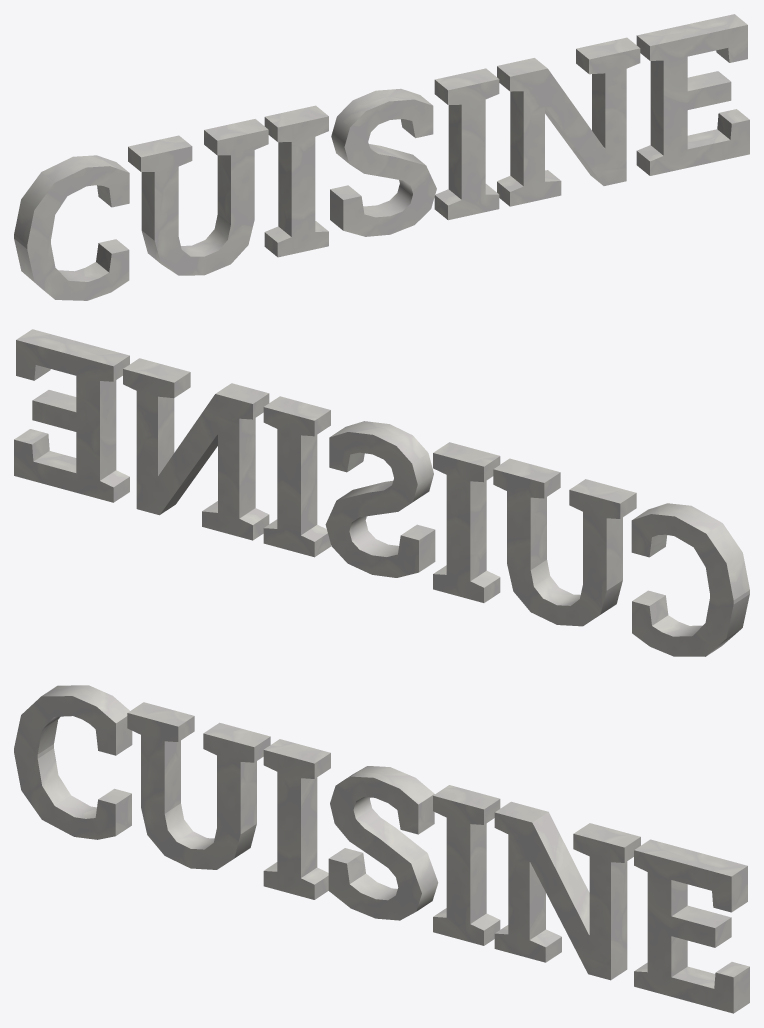
File: cuisine.glb
3 renders of one model, top to bottom at view 1: azimuth 30°, elevation 25°; view 2: azimuth 150°, elevation 25°; view 3: azimuth 330°, elevation 25°, orthographic. The views are drawn at different scales.
Visible parts, largest first — view 1: Cuisine; view 2: Cuisine; view 3: Cuisine.
Boxes of the visible parts, <box> form: Cuisine: <box>14,14,749,300</box>; Cuisine: <box>14,329,749,656</box>; Cuisine: <box>14,685,749,1013</box>.
Size of the model in its own units: 6.24 by 1.13 by 0.5103.
1 material, 1 textured.
